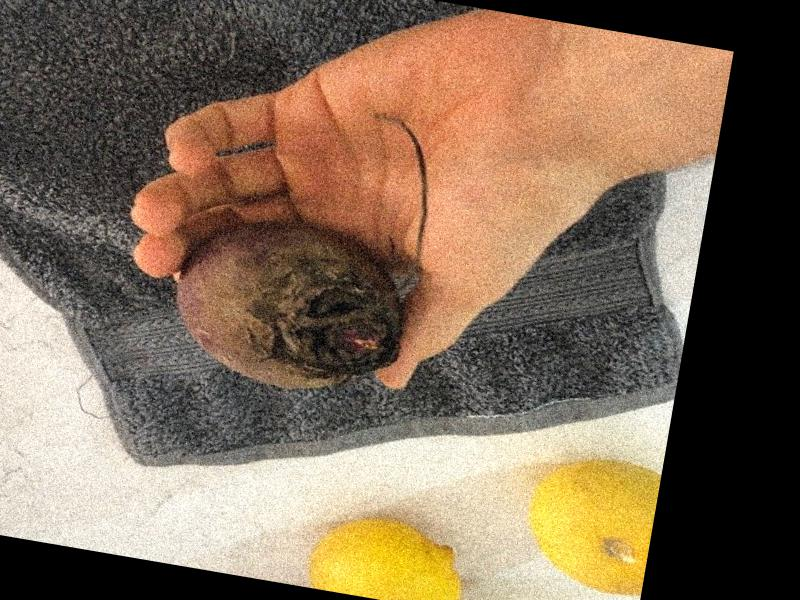Beet: (160, 85, 436, 405)
